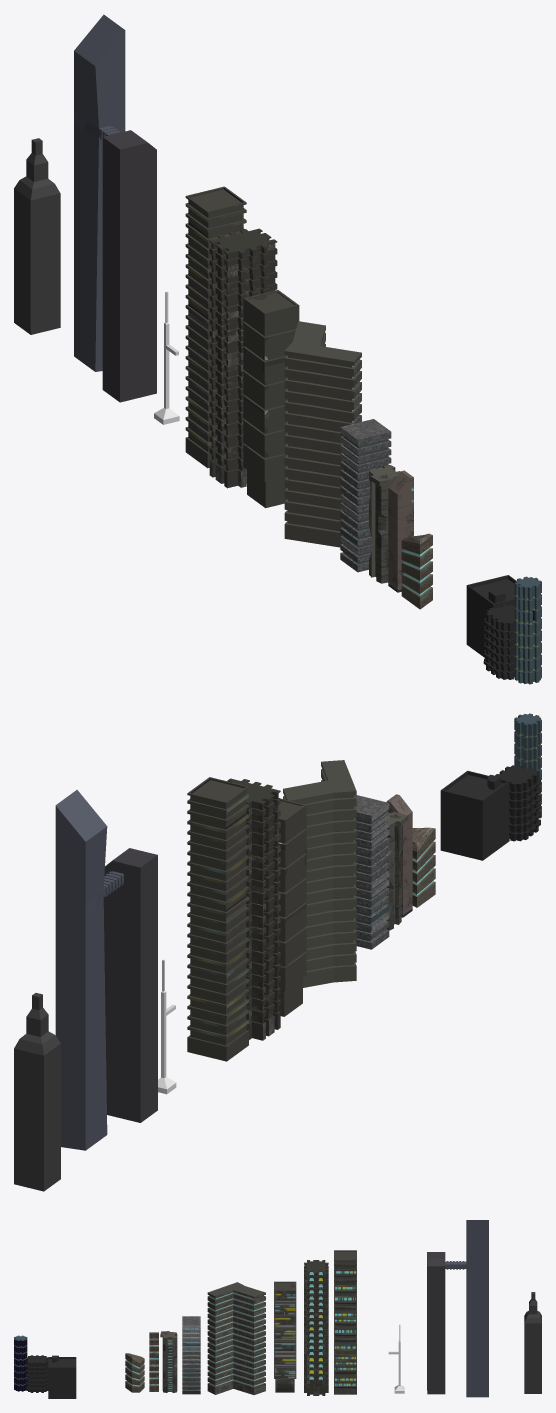
The model's file is CITY 3D.fbx.
3 renders of one model, top to bottom at view 1: azimuth 30°, elevation 25°; view 2: azimuth 150°, elevation 25°; view 3: azimuth 270°, elevation 25°, orthographic. The views are drawn at different scales.
Visible parts, largest first — view 1: Cube.014, Cube.008, Cube.013, Cube.009, Cube.010, Cube.007, Cube.004, Cube.005, Cube, Cube.002, Cube.001, Cube.011 (+3 smaller); view 2: Cube.013, Cube.007, Cube.014, Cube.008, Cube.009, Cube.004, Cube.010, Cube.011, Cube.005, Cube.003, Cube.006, Cube (+3 smaller); view 3: Cube.008, Cube.013, Cube.009, Cube.007, Cube.014, Cube.010, Cube.004, Cube.005, Cube.011, Cube.001, Cube.003, Cube (+3 smaller).
Boxes of the visible parts, x1,y1,x2,y2 form: Cube.014: (102,130,156,402); Cube.008: (284,321,361,547); Cube.013: (74,14,125,371); Cube.009: (209,228,277,488); Cube.010: (243,290,299,508); Cube.007: (185,186,246,468); Cube.004: (14,138,60,334); Cube.005: (340,419,391,572); Cube: (514,576,541,684); Cube.002: (388,470,413,592); Cube.001: (369,465,400,583); Cube.011: (466,575,515,658); Cube.013: (55,790,123,1150); Cube.007: (187,777,248,1061); Cube.014: (103,848,157,1122); Cube.008: (283,760,356,987); Cube.009: (227,778,280,1040); Cube.004: (14,993,60,1191); Cube.010: (278,798,306,1016); Cube.011: (440,770,509,860); Cube.005: (355,795,389,949); Cube.003: (495,765,540,841); Cube.006: (412,827,435,907); Cube: (514,713,541,818); Cube.008: (207,1282,265,1394); Cube.013: (445,1220,488,1397); Cube.009: (304,1260,328,1395); Cube.007: (334,1250,356,1394); Cube.014: (427,1252,445,1394); Cube.010: (274,1281,296,1392); Cube.004: (524,1292,541,1393); Cube.005: (182,1316,200,1394); Cube.011: (48,1355,76,1398); Cube.001: (160,1331,177,1392); Cube.003: (25,1355,48,1392); Cube: (14,1335,27,1391).
Size of the model in its own units: 870 by 3986 by 10765.
